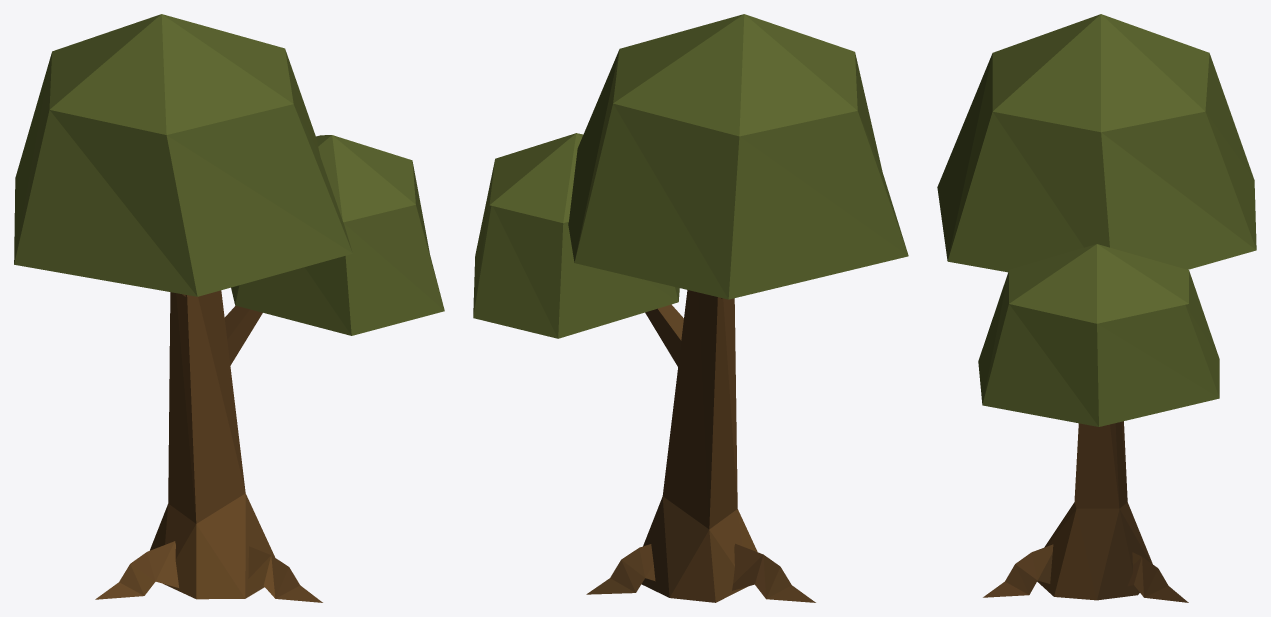
Rendered from tree_obj.obj.
3 renders of one model, left to right at view 1: azimuth 30°, elevation 25°; view 2: azimuth 150°, elevation 25°; view 3: azimuth 270°, elevation 25°, orthographic. The views are drawn at different scales.
Parts seen in each view (by area): view 1: Object Tree 2024-06-30_11-56-42; view 2: Object Tree 2024-06-30_11-56-42; view 3: Object Tree 2024-06-30_11-56-42.
Boxes of the visible parts, box(x1,y1,x2,y2) form: Object Tree 2024-06-30_11-56-42: box(14, 14, 444, 602); Object Tree 2024-06-30_11-56-42: box(473, 14, 908, 602); Object Tree 2024-06-30_11-56-42: box(937, 14, 1256, 602).
Bounding box in the file's own units: 226 × 290 × 156.
